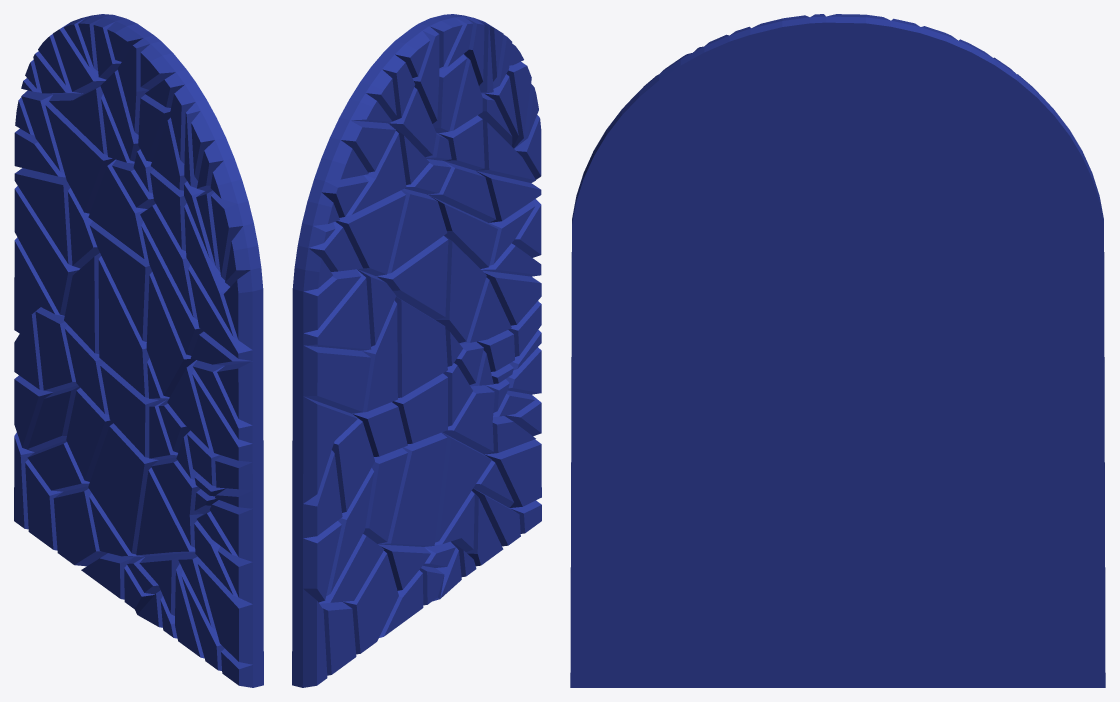
The model's file is SM_Entrance_wall_door.fbx.
The picture shows the model from 3 angles, left to right: view 1: azimuth 30°, elevation 25°; view 2: azimuth 150°, elevation 25°; view 3: azimuth 270°, elevation 25°; orthographic projection. The views are drawn at different scales.
Visible parts, largest first — view 1: AAAAAAAAAAAAAA; view 2: AAAAAAAAAAAAAA; view 3: AAAAAAAAAAAAAA.
Part boxes in pixels (bbox=[...]): AAAAAAAAAAAAAA: bbox=[14, 14, 263, 687]; AAAAAAAAAAAAAA: bbox=[292, 14, 541, 687]; AAAAAAAAAAAAAA: bbox=[570, 14, 1105, 687].
Size of the model in its own units: 14.79 by 353 by 258.
